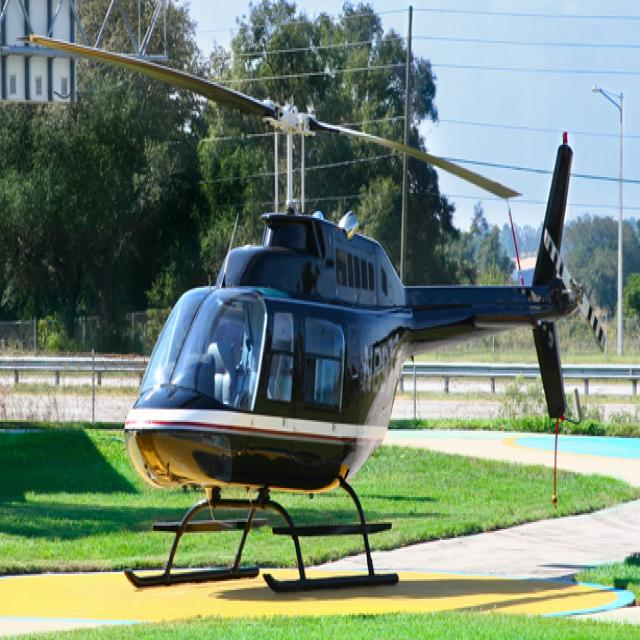helicopter: (58, 37, 592, 616)
